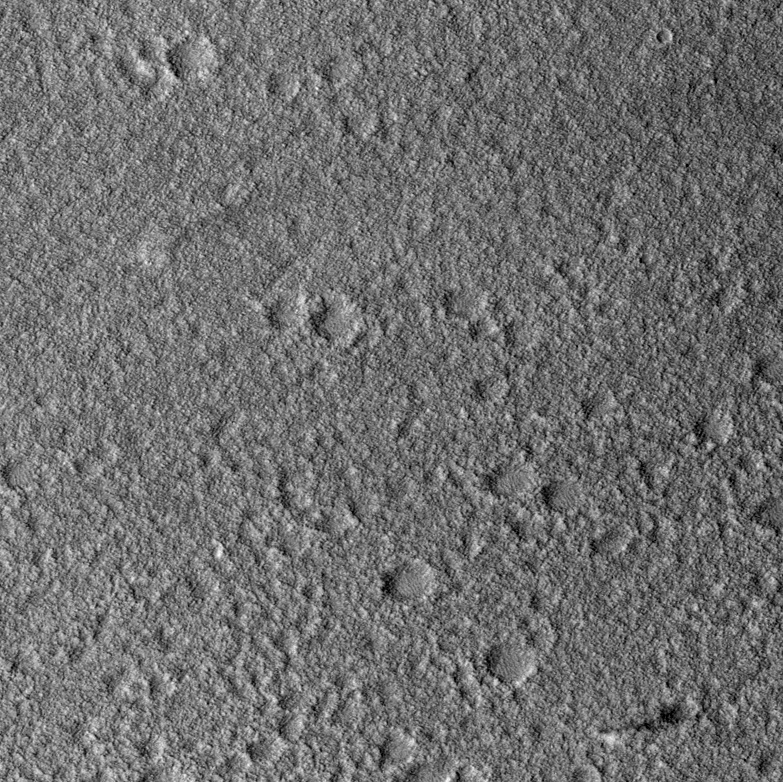dust_devil: (593, 700, 688, 750)
